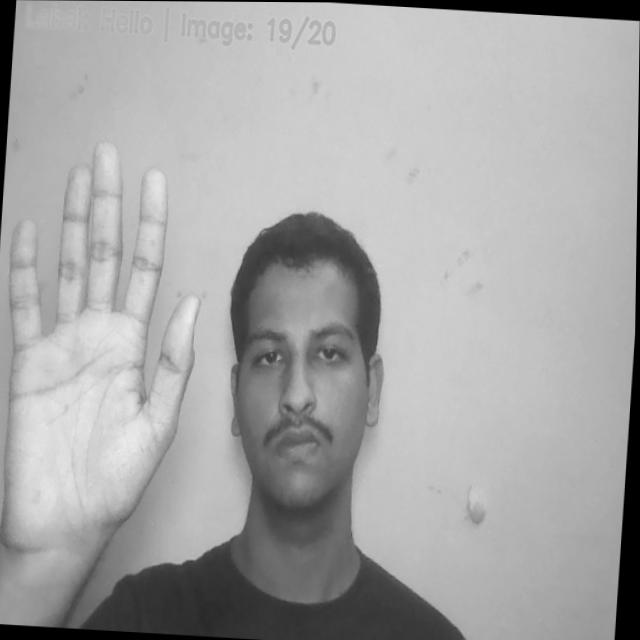Hello: (0, 130, 209, 539)
